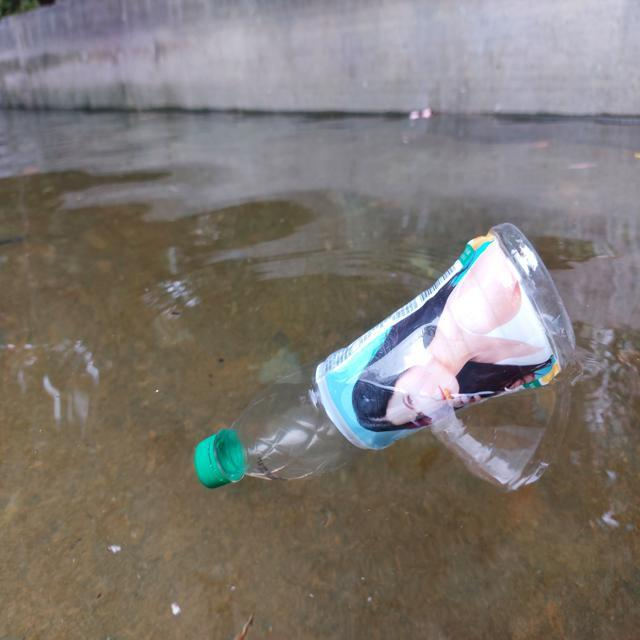waterbottle: (154, 219, 582, 513)
